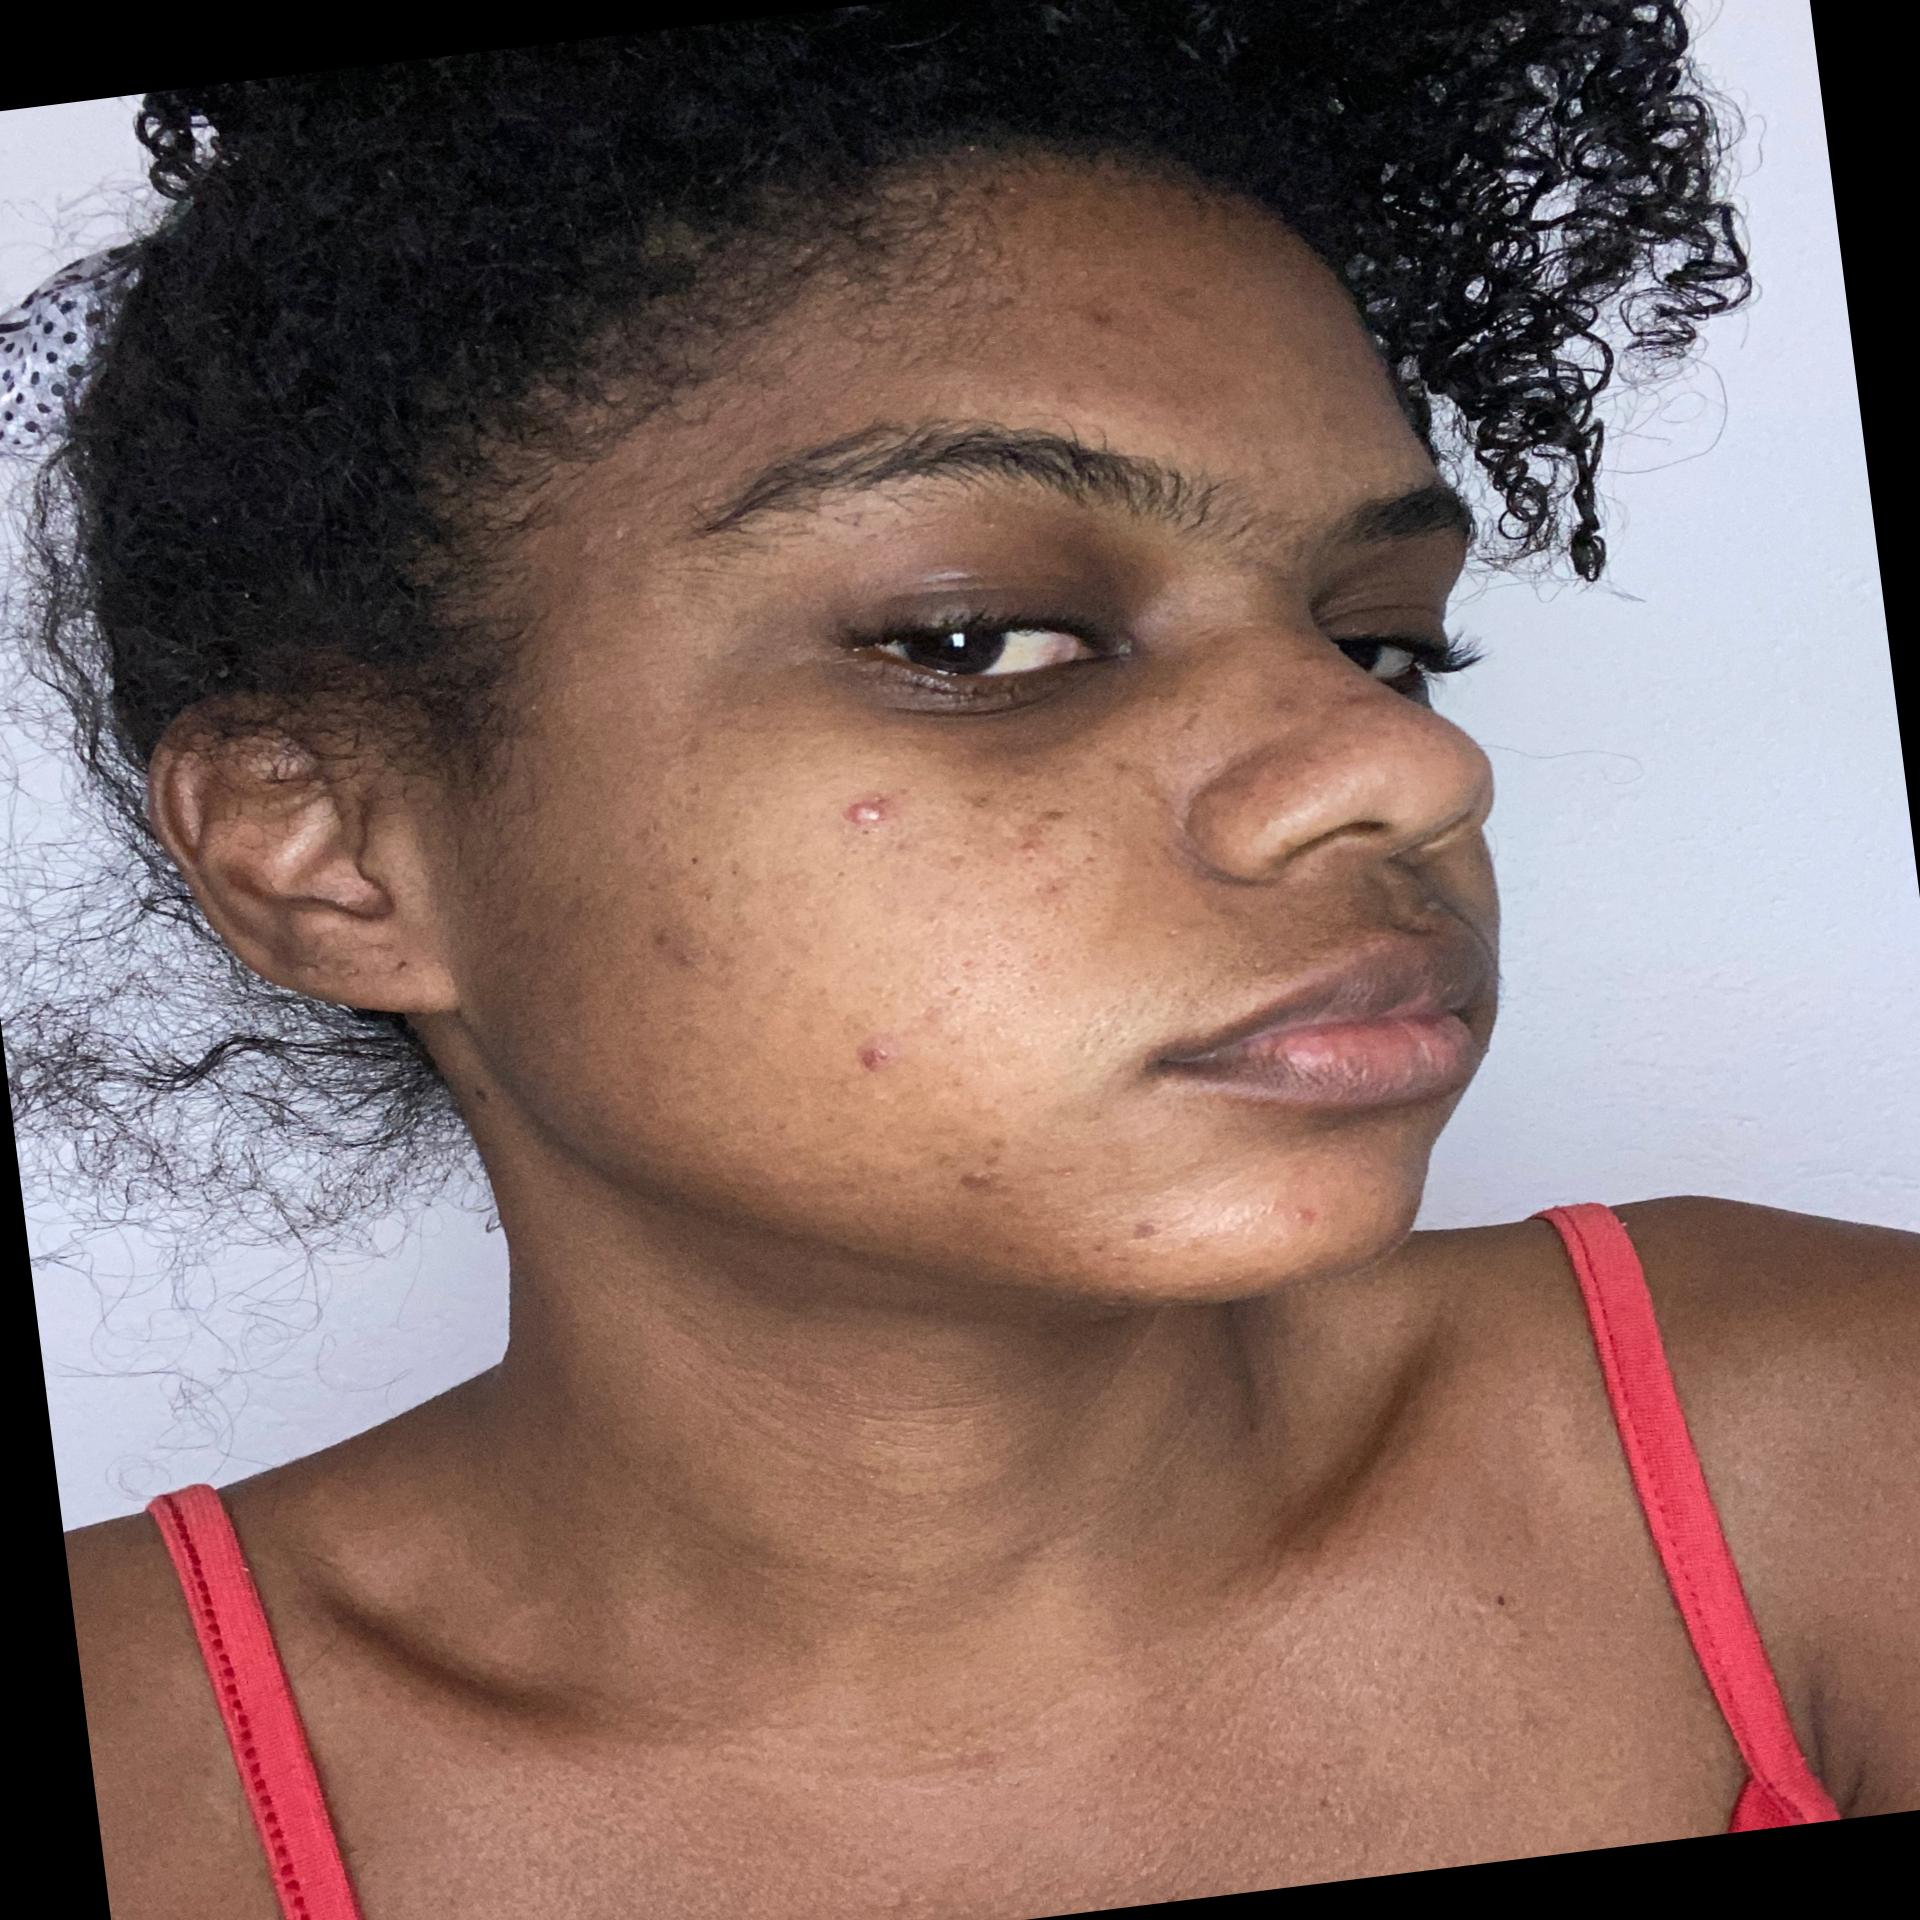Acne: (948, 1129, 1018, 1197), (645, 918, 710, 983), (833, 791, 891, 828), (1074, 297, 1125, 336), (846, 1039, 895, 1076), (1335, 686, 1389, 716), (1261, 689, 1305, 721), (1122, 1213, 1164, 1245), (1013, 833, 1048, 865), (1289, 1201, 1319, 1231), (1032, 802, 1067, 825), (1053, 1157, 1081, 1185), (962, 788, 992, 811), (1039, 879, 1058, 897)
Dark Circles: (821, 640, 1167, 781)
Englarged Pores: (902, 789, 1129, 1022)
